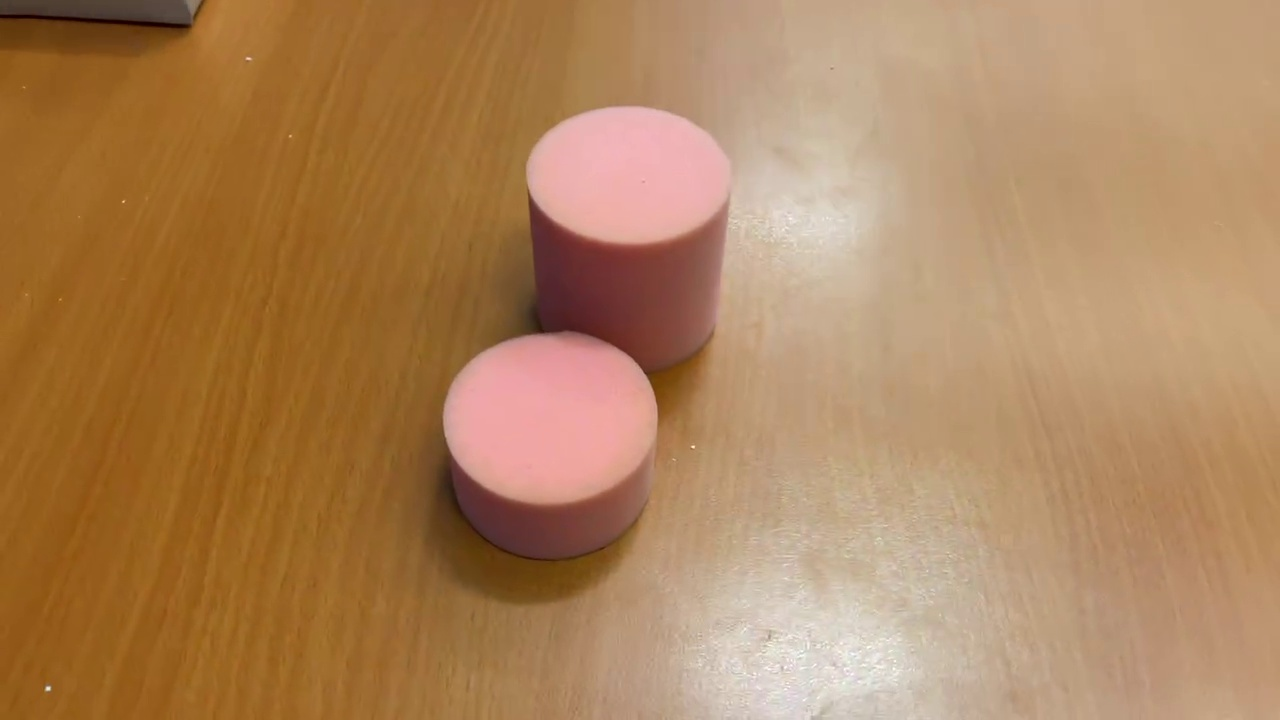Clyinder_short: (440, 323, 662, 571)
Cylinder: (518, 106, 735, 372)
